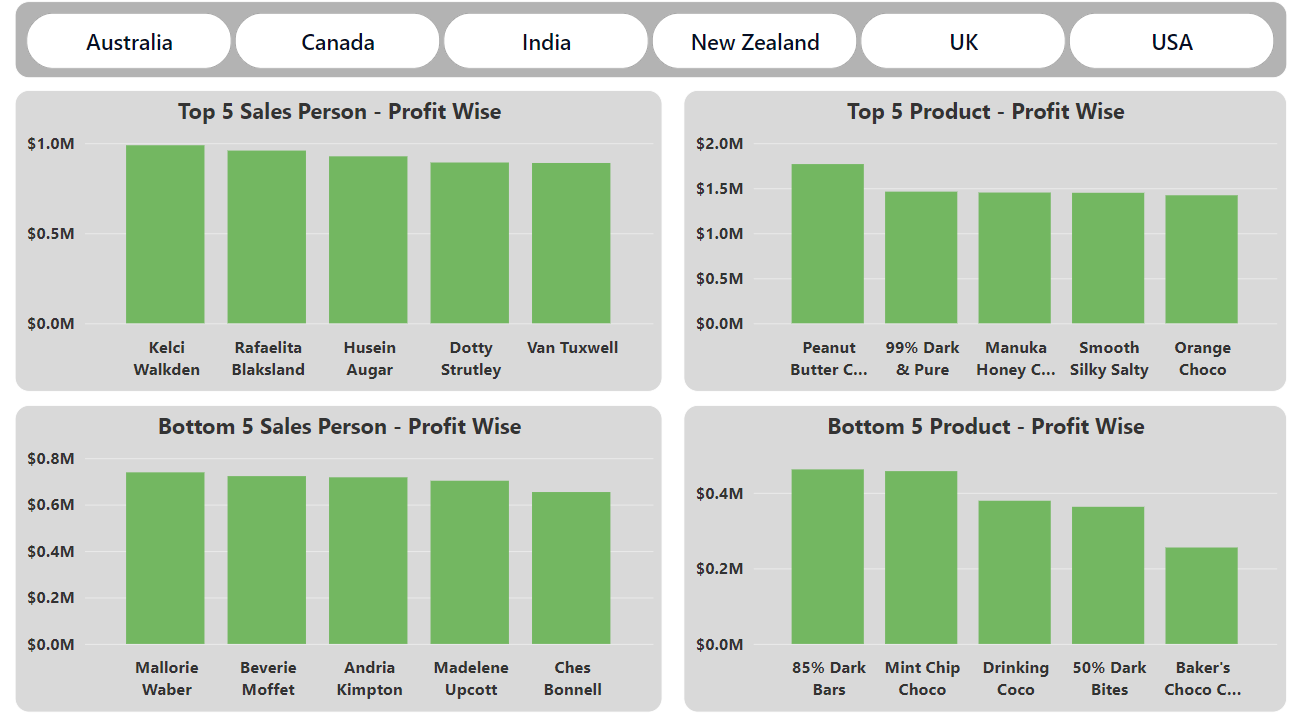

What the dashboard file says about the page in this screenshot:
{"tool":"powerbi","page":{"name":"Top & Bottom","canvas":[1280,720],"ordinal":1},"visuals":[{"type":"clusteredColumnChart","title":"Top 5 Sales Person - Profit Wise","fields":{"Y":["_Measures.Total Profit"],"Category":["shipments.Sales Person"]},"box":[17.8,97.4,634,295],"z":0},{"type":"clusteredColumnChart","title":"Top 5 Product - Profit Wise","fields":{"Y":["_Measures.Total Profit"],"Category":["shipments.Product"]},"box":[672.4,97.4,590.1,295],"z":1000},{"type":"clusteredColumnChart","title":"Bottom 5 Sales Person - Profit Wise","fields":{"Y":["_Measures.Total Profit"],"Category":["shipments.Sales Person"]},"box":[17.8,406.2,634,300.5],"z":2000},{"type":"clusteredColumnChart","title":"Bottom 5 Product - Profit Wise","fields":{"Y":["_Measures.Total Profit"],"Category":["shipments.Product"]},"box":[672.4,406.2,590.1,300.5],"z":3000},{"type":"advancedSlicerVisual","fields":{"Values":["locations.Geo"]},"box":[17.8,11,1244.6,75.5],"z":4000}]}

Visuals, with their boxes in screenshot pixels (x1, y1, x2, y2), scaled from the page's 1280x720 canvas onto the 1302x723 screenshot:
"Top 5 Sales Person - Profit Wise" clusteredColumnChart: (left=18, top=98, right=663, bottom=394)
"Top 5 Product - Profit Wise" clusteredColumnChart: (left=684, top=98, right=1284, bottom=394)
"Bottom 5 Sales Person - Profit Wise" clusteredColumnChart: (left=18, top=408, right=663, bottom=710)
"Bottom 5 Product - Profit Wise" clusteredColumnChart: (left=684, top=408, right=1284, bottom=710)
advancedSlicerVisual - locations.Geo: (left=18, top=11, right=1284, bottom=87)
